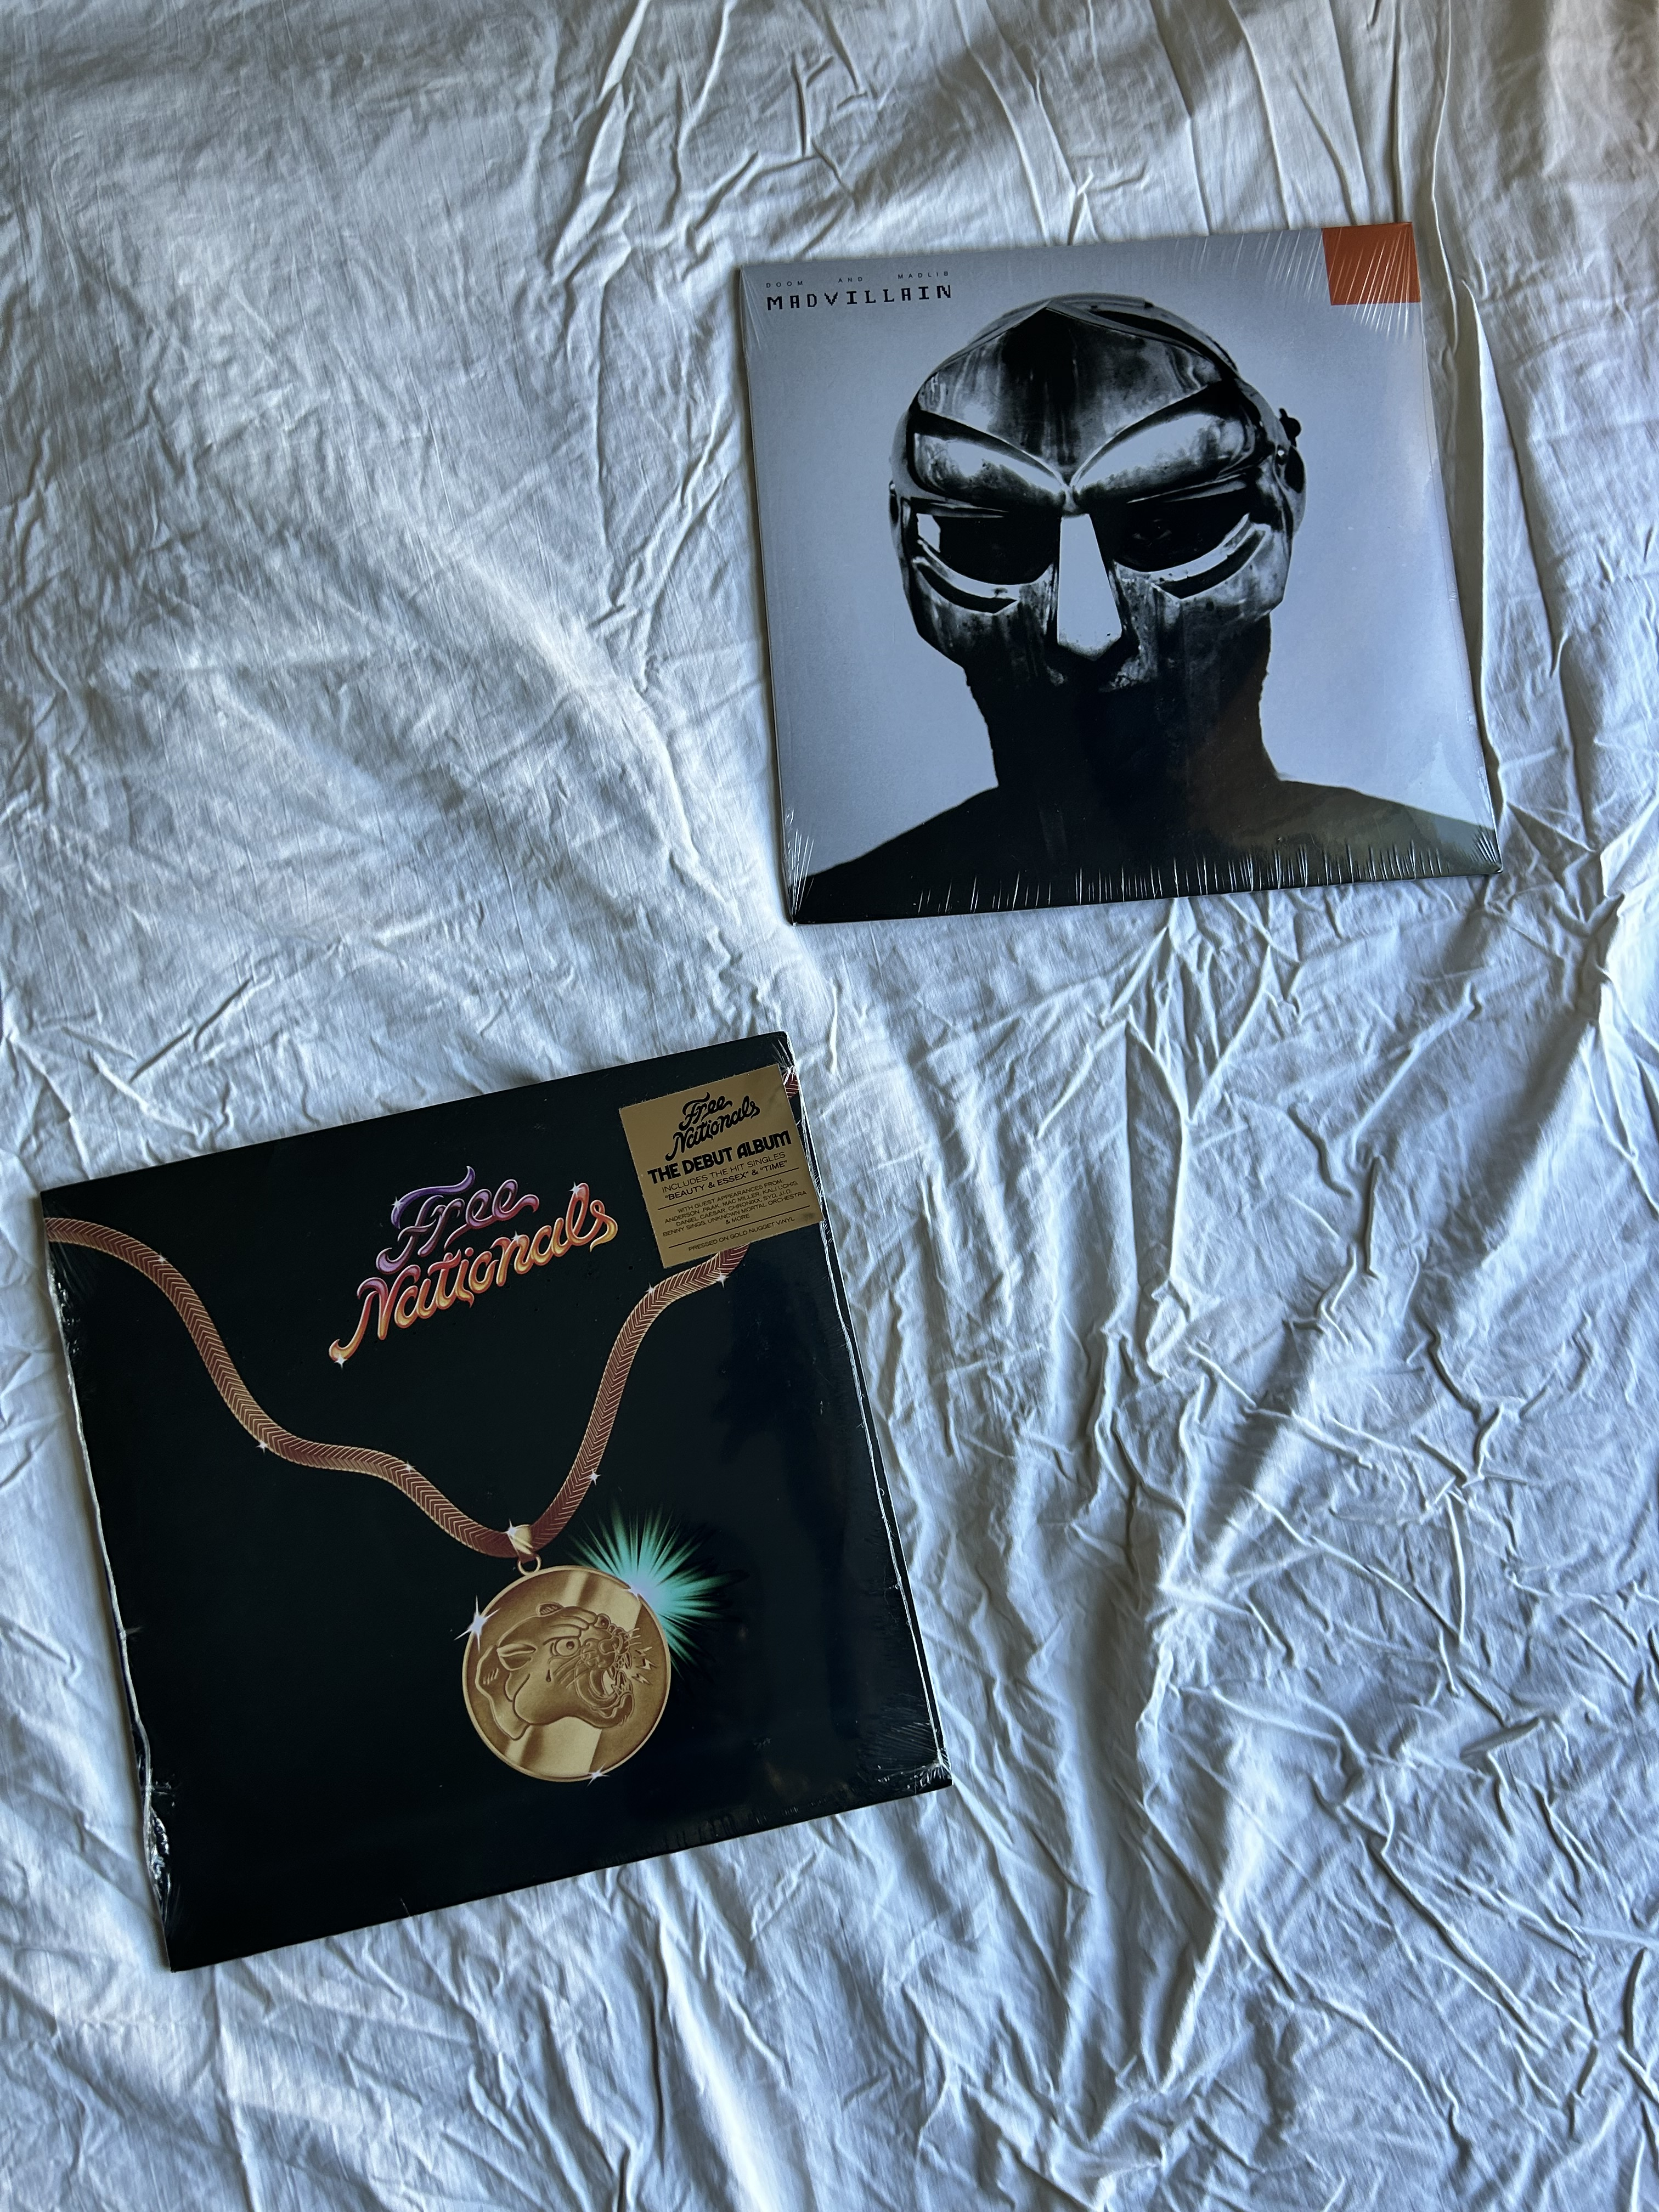free nationals_free nationals: (9, 1190, 817, 1993)
madvillain_madvillainy: (716, 265, 1459, 941)
